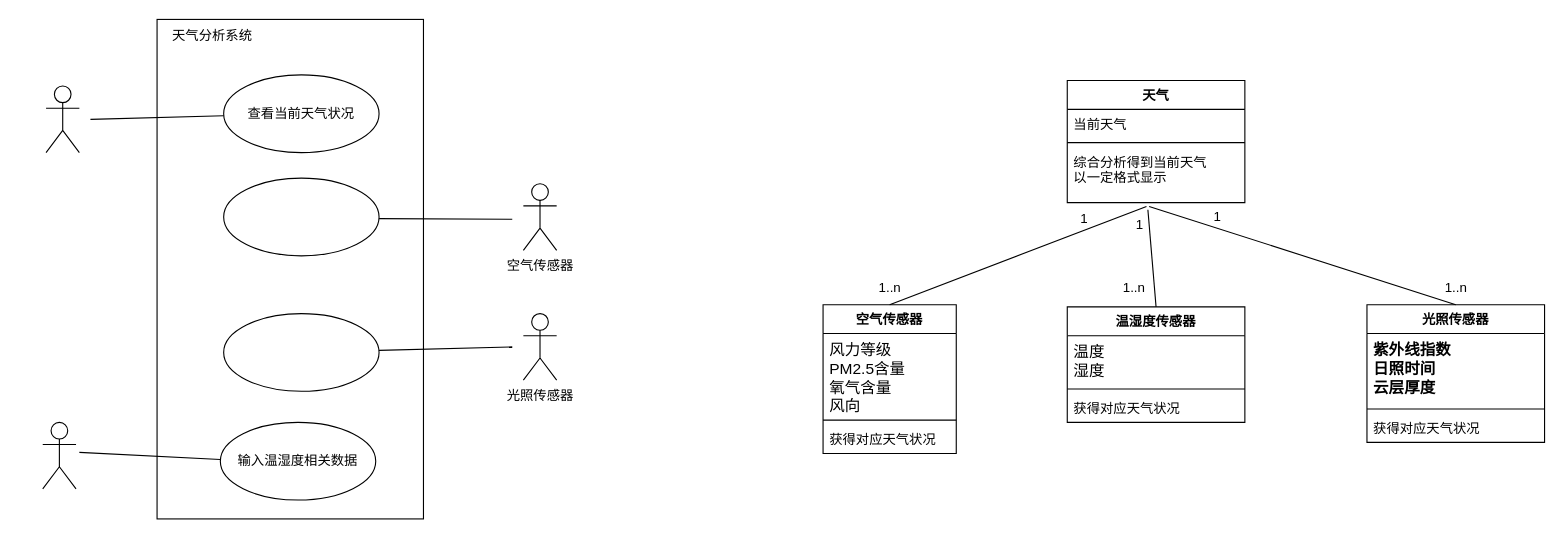
This 1564x538 diagram has some shape labels left out. Each missing label, with the centre of its shape:
"温湿度 传感器" goes at point 59,455.
"用户" goes at point 62,119.
"输入光照相关数据" goes at point 301,351.
"输入空气相关数据" goes at point 301,216.
